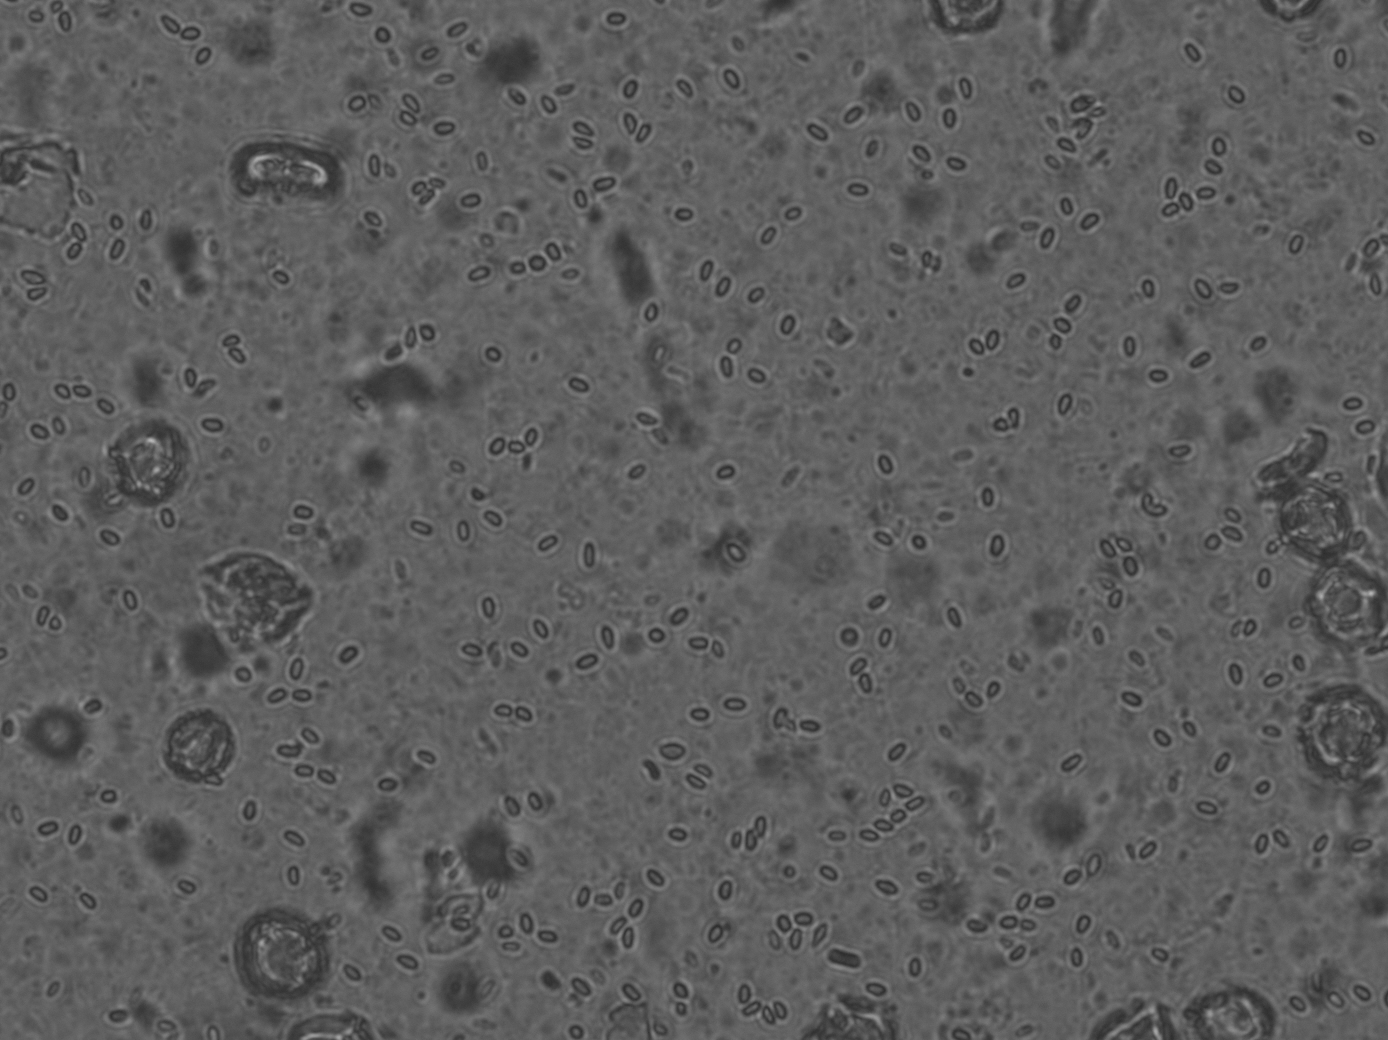spore: (198, 49, 211, 61), (649, 630, 662, 642), (69, 831, 81, 843), (1291, 240, 1303, 252), (1084, 214, 1096, 226), (987, 336, 999, 348), (529, 258, 541, 270), (882, 630, 893, 643), (511, 441, 524, 452), (719, 466, 732, 477), (1231, 93, 1244, 104), (624, 85, 637, 96), (781, 320, 794, 331), (1041, 232, 1054, 243), (527, 796, 541, 807), (1076, 918, 1089, 929), (1212, 138, 1225, 149), (1021, 898, 1033, 909), (1265, 675, 1277, 686), (294, 692, 306, 702), (710, 927, 722, 938), (693, 709, 705, 720), (988, 683, 1000, 694), (520, 709, 532, 720), (675, 208, 687, 218), (822, 866, 834, 877), (773, 1005, 784, 1017), (1065, 874, 1078, 884), (745, 1006, 758, 1016), (762, 233, 775, 243), (598, 179, 609, 190), (468, 197, 479, 208), (1162, 205, 1173, 216), (1362, 423, 1373, 434), (728, 699, 739, 710), (728, 76, 739, 87), (1223, 284, 1234, 295), (452, 24, 463, 35), (494, 440, 505, 451), (580, 891, 591, 902), (632, 901, 643, 912), (59, 388, 70, 399), (1081, 918, 1092, 929), (424, 329, 435, 340), (892, 812, 904, 822), (719, 285, 731, 295), (876, 822, 888, 831), (269, 693, 281, 702), (1154, 370, 1164, 382), (751, 1004, 763, 1014), (209, 423, 221, 433), (696, 639, 708, 649), (1248, 623, 1258, 635), (103, 790, 115, 800), (1205, 537, 1217, 547), (511, 648, 523, 658), (417, 328, 427, 340), (945, 110, 957, 120), (973, 345, 986, 354), (1212, 146, 1225, 155), (69, 249, 80, 259), (641, 128, 651, 139), (634, 129, 645, 139), (911, 797, 922, 807), (1242, 623, 1251, 634), (1016, 275, 1025, 286), (788, 208, 799, 217), (606, 15, 617, 25), (295, 509, 306, 519), (380, 780, 391, 790), (1128, 694, 1139, 704), (529, 433, 538, 444), (733, 839, 744, 849), (34, 425, 45, 435), (571, 380, 582, 390), (1007, 918, 1017, 929), (1334, 50, 1345, 60), (356, 7, 367, 16), (277, 275, 288, 285), (1144, 285, 1155, 295), (756, 371, 766, 382), (1179, 198, 1190, 208), (1205, 164, 1215, 174), (1266, 544, 1277, 554), (538, 537, 549, 547), (1272, 675, 1283, 685), (1143, 849, 1155, 858), (424, 50, 436, 59), (720, 891, 732, 900), (486, 353, 498, 362), (1111, 599, 1123, 607), (1058, 139, 1070, 147), (573, 199, 585, 208), (50, 623, 62, 631), (25, 484, 35, 494), (582, 658, 592, 667), (1197, 804, 1207, 814), (1007, 277, 1017, 287), (1353, 841, 1363, 851), (851, 113, 861, 122), (547, 536, 557, 546), (1197, 189, 1207, 199), (347, 649, 357, 659), (478, 268, 488, 277), (677, 831, 687, 841), (302, 693, 312, 702), (1058, 405, 1069, 414), (891, 753, 902, 761), (746, 840, 757, 849), (400, 114, 411, 122), (995, 546, 1006, 555), (624, 938, 634, 947), (537, 259, 546, 270), (484, 607, 495, 616), (46, 623, 57, 631), (648, 311, 659, 320), (1067, 406, 1078, 415), (506, 440, 514, 451), (1257, 338, 1266, 348), (181, 26, 192, 35), (285, 831, 296, 840), (866, 986, 877, 995), (651, 876, 662, 885), (710, 935, 722, 943), (19, 485, 28, 494), (607, 180, 616, 190), (883, 823, 893, 831), (278, 692, 287, 701), (1, 391, 11, 400), (1318, 841, 1327, 851), (486, 891, 496, 900), (904, 799, 913, 808), (1168, 206, 1178, 215), (1207, 189, 1215, 199), (45, 615, 55, 624), (617, 15, 626, 25), (978, 338, 987, 347), (461, 198, 470, 208), (876, 598, 886, 606), (1171, 449, 1181, 458), (305, 510, 313, 520), (644, 311, 653, 321), (1171, 190, 1181, 199), (514, 709, 523, 719), (8, 390, 16, 400), (971, 693, 981, 701), (790, 943, 799, 952), (1013, 953, 1024, 960), (1334, 60, 1345, 68), (850, 666, 861, 674), (1214, 764, 1225, 771), (164, 521, 175, 529), (190, 380, 201, 388), (695, 780, 705, 788), (1206, 806, 1217, 814), (468, 650, 479, 658), (485, 511, 496, 519), (36, 617, 47, 625), (487, 520, 498, 528), (997, 424, 1008, 432), (791, 937, 802, 945), (398, 955, 408, 962), (1256, 581, 1268, 588), (181, 34, 193, 40), (755, 294, 763, 303), (617, 927, 626, 936), (748, 294, 757, 303), (27, 293, 36, 302), (36, 286, 45, 295), (1312, 841, 1320, 850), (582, 139, 591, 147), (851, 674, 859, 683), (347, 104, 357, 111), (356, 104, 366, 111), (1041, 241, 1051, 249), (632, 910, 642, 918), (17, 175, 27, 182), (850, 184, 859, 191), (546, 105, 556, 113), (816, 935, 826, 943), (918, 875, 928, 883), (191, 33, 201, 40), (859, 676, 869, 684), (677, 615, 687, 623), (443, 122, 453, 130), (668, 832, 678, 840), (111, 251, 122, 258), (780, 329, 791, 335), (990, 547, 1001, 554), (737, 997, 748, 1004), (182, 382, 193, 389), (287, 877, 298, 884), (1138, 850, 1147, 858), (1232, 677, 1241, 685), (1008, 953, 1017, 960), (590, 659, 598, 666), (868, 832, 877, 840), (714, 286, 722, 295), (1086, 104, 1094, 111), (843, 114, 851, 122), (773, 1016, 782, 1024), (406, 113, 415, 120), (1067, 765, 1077, 771), (850, 190, 859, 197), (226, 347, 236, 354), (494, 520, 503, 527), (624, 929, 633, 935), (693, 773, 704, 779), (1034, 901, 1042, 909), (35, 295, 44, 302), (538, 545, 547, 552), (1076, 927, 1084, 934), (626, 911, 634, 918), (1144, 505, 1154, 510), (34, 436, 46, 440), (887, 755, 894, 761), (1381, 998, 1388, 1006), (1060, 764, 1068, 770), (1172, 201, 1179, 208), (903, 806, 912, 812), (887, 815, 893, 822), (1059, 331, 1068, 335)
